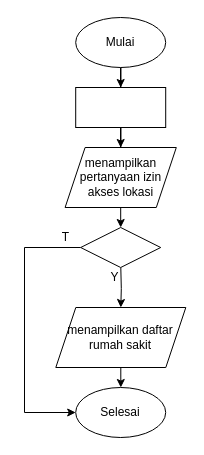
Some shapes in this 204 by 455 pixel diagram are drawn without their labels. The shapes that lost their labels are listed below. From the top down, each one's box as (x1, y1, x2, y2) in pixels, then its label:
(75, 86, 166, 128): memilih menu rumah sakit
(80, 226, 161, 268): izinkan?
